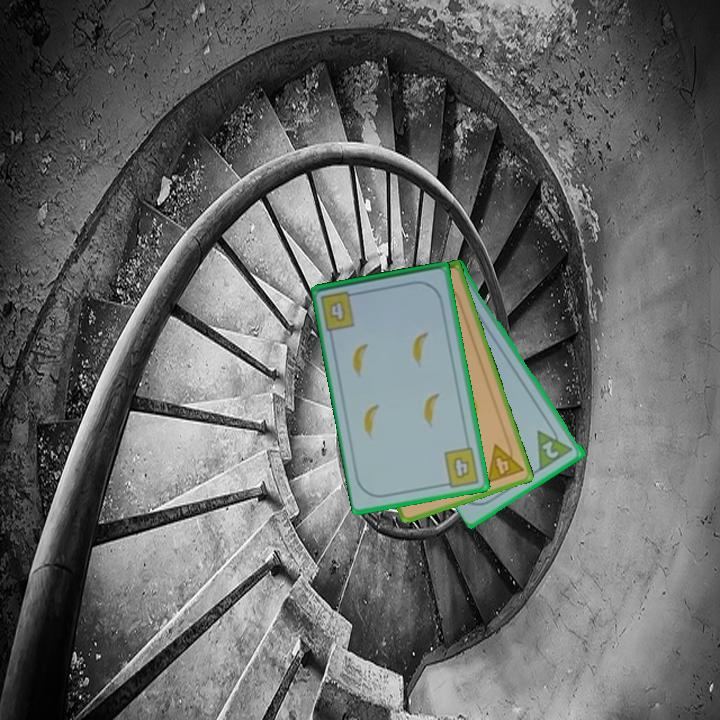2p: (539, 437, 562, 461)
4b: (317, 287, 362, 333), (439, 444, 482, 490)
4p: (483, 437, 526, 486)
